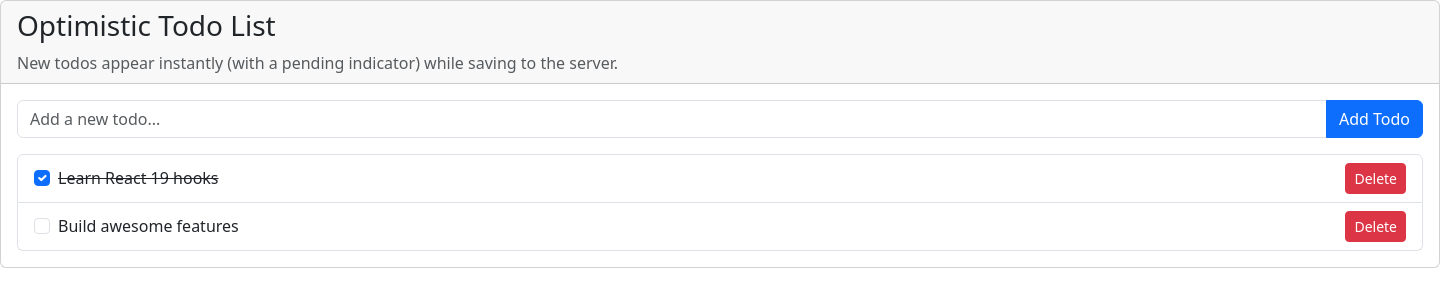
Test: OptimisticTodos › Deleting todos › should delete todo immediately
This screenshot has width=1440, height=285.
Click the button "Delete" in the row of "Build awesome features".
click(1376, 226)  # box [1345, 211, 1406, 242]
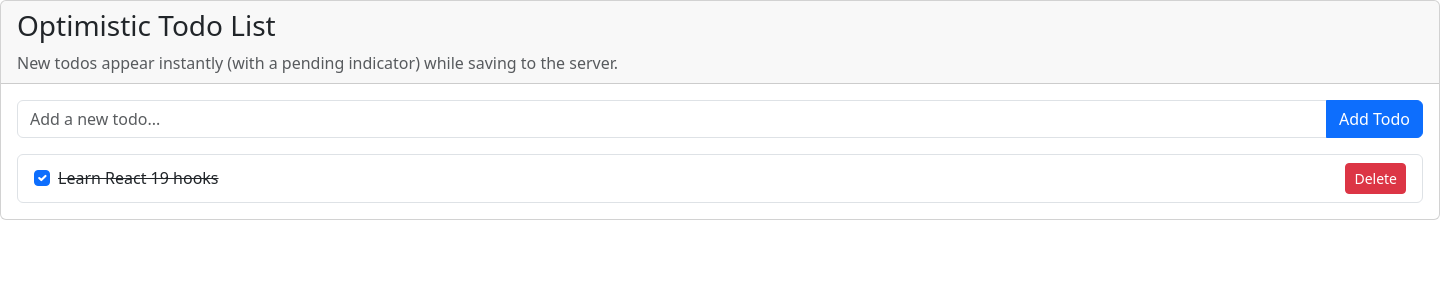
Expected: the text "Build awesome features" is gone
